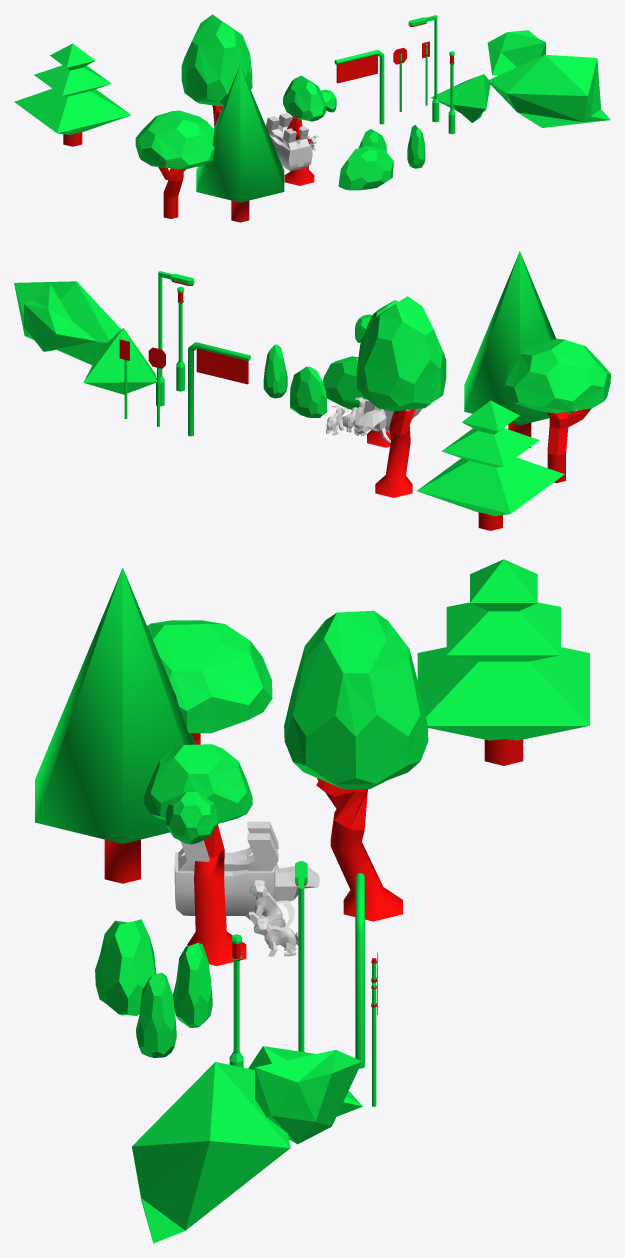
Rendered from MiscObjects.FBX.
3 renders of one model, top to bottom at view 1: azimuth 30°, elevation 25°; view 2: azimuth 150°, elevation 25°; view 3: azimuth 270°, elevation 25°, orthographic. The views are drawn at different scales.
Parts seen in each view (by area): view 1: Cylinder004, GeoSphere001, Cylinder008, Cylinder007, Cylinder005, Cylinder006, Hedra002, GeoSphere003, Box005, GeoSphere002, Loft001, Cylinder001 (+4 smaller); view 2: Cylinder005, Cylinder008, Cylinder007, Cylinder004, GeoSphere001, GeoSphere003, GeoSphere002, Loft001, Hedra001, Hedra002, Hedra003, Box005 (+6 smaller); view 3: Cylinder004, Cylinder005, Cylinder008, GeoSphere001, Cylinder006, Cylinder007, GeoSphere003, Box005, Hedra002, Hedra003, Hedra001, Loft001 (+4 smaller).
Part boxes in pixels (x1,y1,x2,y2): Cylinder004: (196,65,284,222); GeoSphere001: (488,54,610,127); Cylinder008: (14,43,131,146); Cylinder007: (135,110,214,218); Cylinder005: (181,14,252,126); Cylinder006: (283,75,336,185); Hedra002: (338,146,393,190); GeoSphere003: (487,30,545,75); Box005: (266,113,312,171); GeoSphere002: (431,74,490,122); Loft001: (334,50,384,124); Cylinder001: (408,15,439,122); Cylinder005: (356,296,446,497); Cylinder008: (417,400,564,530); Cylinder007: (505,338,610,482); Cylinder004: (464,251,574,447); GeoSphere001: (14,281,121,364); GeoSphere003: (24,284,96,351); GeoSphere002: (83,328,156,394); Loft001: (188,342,250,436); Hedra001: (290,366,327,417); Hedra002: (323,356,366,409); Hedra003: (263,344,287,398); Box005: (356,399,422,442); Cylinder004: (35,568,195,883); Cylinder005: (284,610,428,921); Cylinder008: (417,559,589,765); GeoSphere001: (132,1062,290,1243); Cylinder006: (144,744,252,965); Cylinder007: (147,620,272,744); GeoSphere003: (255,1050,361,1144); Box005: (174,821,319,927); Hedra002: (95,919,156,1015); Hedra003: (136,972,176,1057); Hedra001: (173,943,212,1027); Loft001: (355,873,364,1068).
Size of the model in its own units: 5638 by 1712 by 2775.
